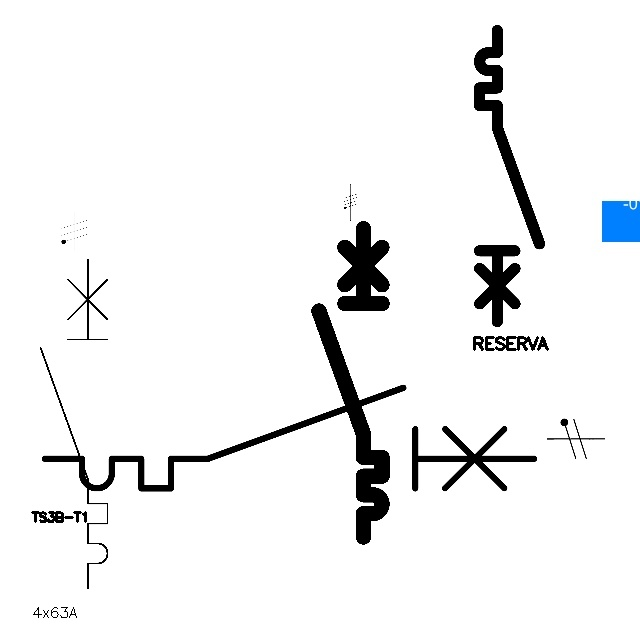interruptor_termomagnetico: (32, 375, 546, 501), (32, 251, 116, 597), (311, 220, 390, 544), (472, 23, 547, 329)
